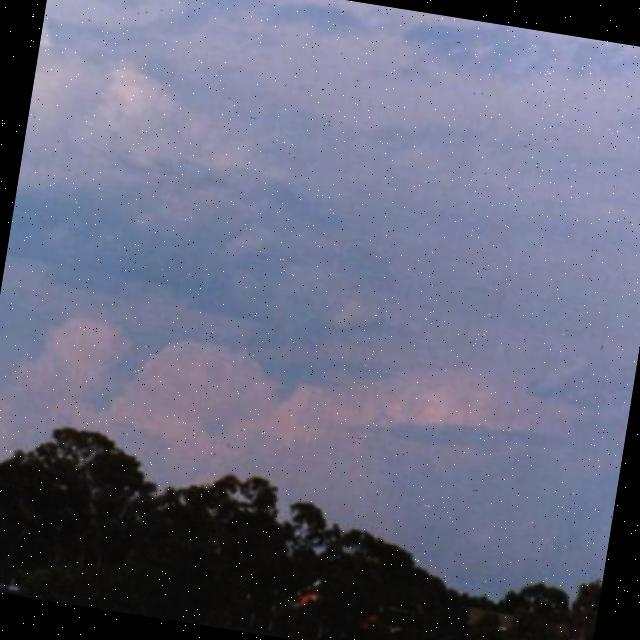Cs: (1, 74, 640, 507)
